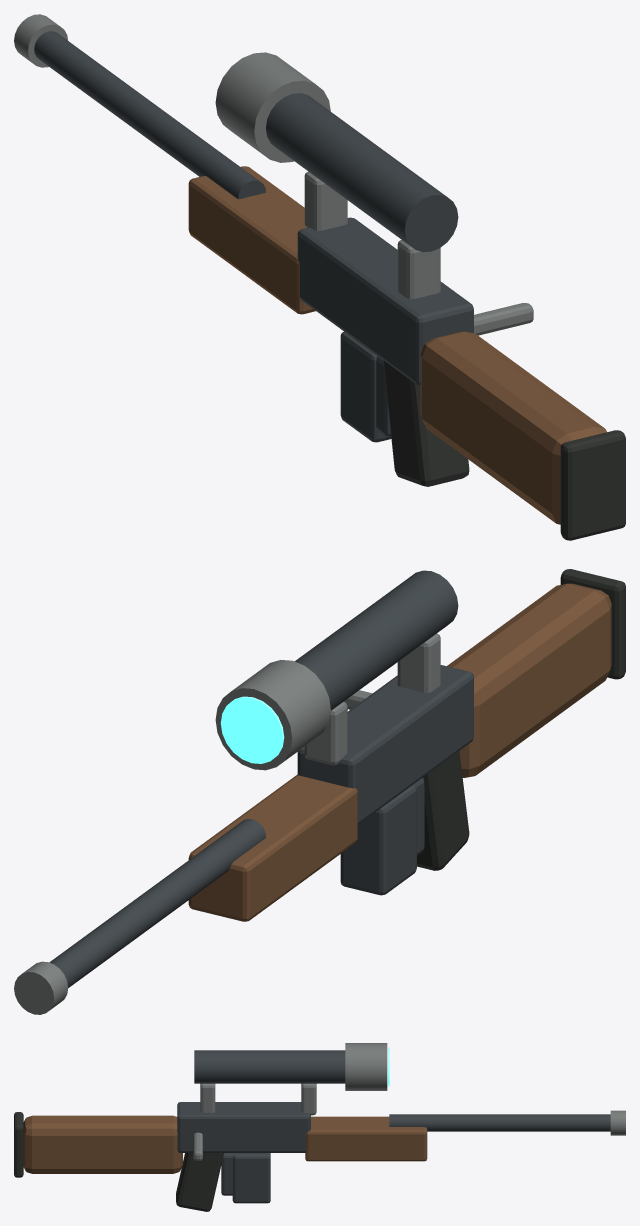
Rendered from noir-precision.glb.
The picture shows the model from 3 angles, top to bottom: view 1: azimuth 30°, elevation 25°; view 2: azimuth 150°, elevation 25°; view 3: azimuth 270°, elevation 25°; orthographic projection. The views are drawn at different scales.
Parts seen in each view (by area): view 1: weapon-blued-steel.008, weapon-walnut.005, weapon-grip.007, weapon-machined-steel.007, weapon-blued-steel.009, weapon-machined-steel.008; view 2: weapon-blued-steel.008, weapon-walnut.005, weapon-machined-steel.007, weapon-grip.007, weapon-blued-steel.009, arc-glass; view 3: weapon-blued-steel.008, weapon-walnut.005, weapon-machined-steel.007, weapon-grip.007, weapon-blued-steel.009, weapon-machined-steel.008.
Part boxes in pixels (left/top/right/bottom): weapon-blued-steel.008: left=34, top=31, right=473, bottom=436; weapon-walnut.005: left=188, top=166, right=606, bottom=524; weapon-grip.007: left=383, top=360, right=625, bottom=540; weapon-machined-steel.007: left=14, top=14, right=440, bottom=299; weapon-blued-steel.009: left=340, top=331, right=391, bottom=442; weapon-machined-steel.008: left=474, top=303, right=533, bottom=335; weapon-blued-steel.008: left=49, top=570, right=473, bottom=987; weapon-walnut.005: left=188, top=583, right=611, bottom=921; weapon-machined-steel.007: left=14, top=633, right=440, bottom=1014; weapon-grip.007: left=417, top=569, right=625, bottom=870; weapon-blued-steel.009: left=340, top=784, right=416, bottom=895; arc-glass: left=220, top=696, right=284, bottom=763; weapon-blued-steel.008: left=177, top=1050, right=610, bottom=1195; weapon-walnut.005: left=23, top=1115, right=427, bottom=1173; weapon-machined-steel.007: left=200, top=1043, right=625, bottom=1135; weapon-grip.007: left=14, top=1112, right=223, bottom=1211; weapon-blued-steel.009: left=232, top=1153, right=270, bottom=1203; weapon-machined-steel.008: left=193, top=1132, right=202, bottom=1160.
Bounding box in the file's own units: 0.233 × 0.4682 × 1.6.
